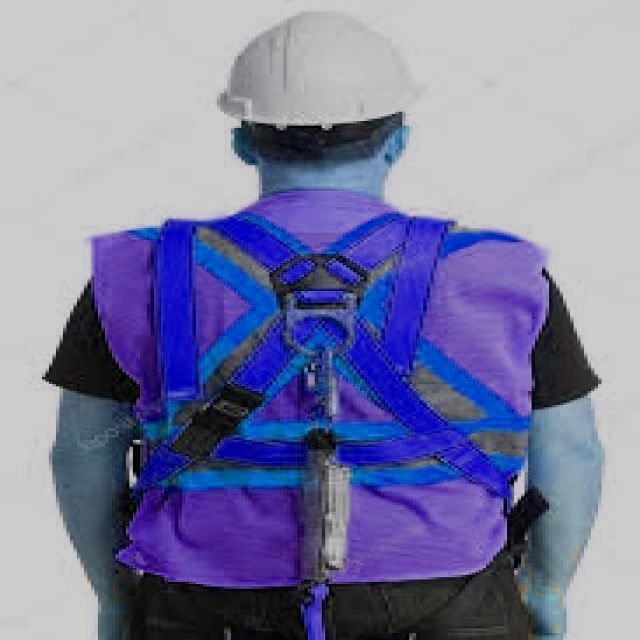safety belt: (80, 207, 532, 573)
